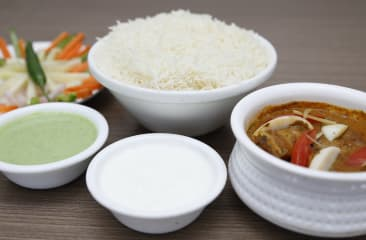plain rice: (122, 20, 248, 82)
